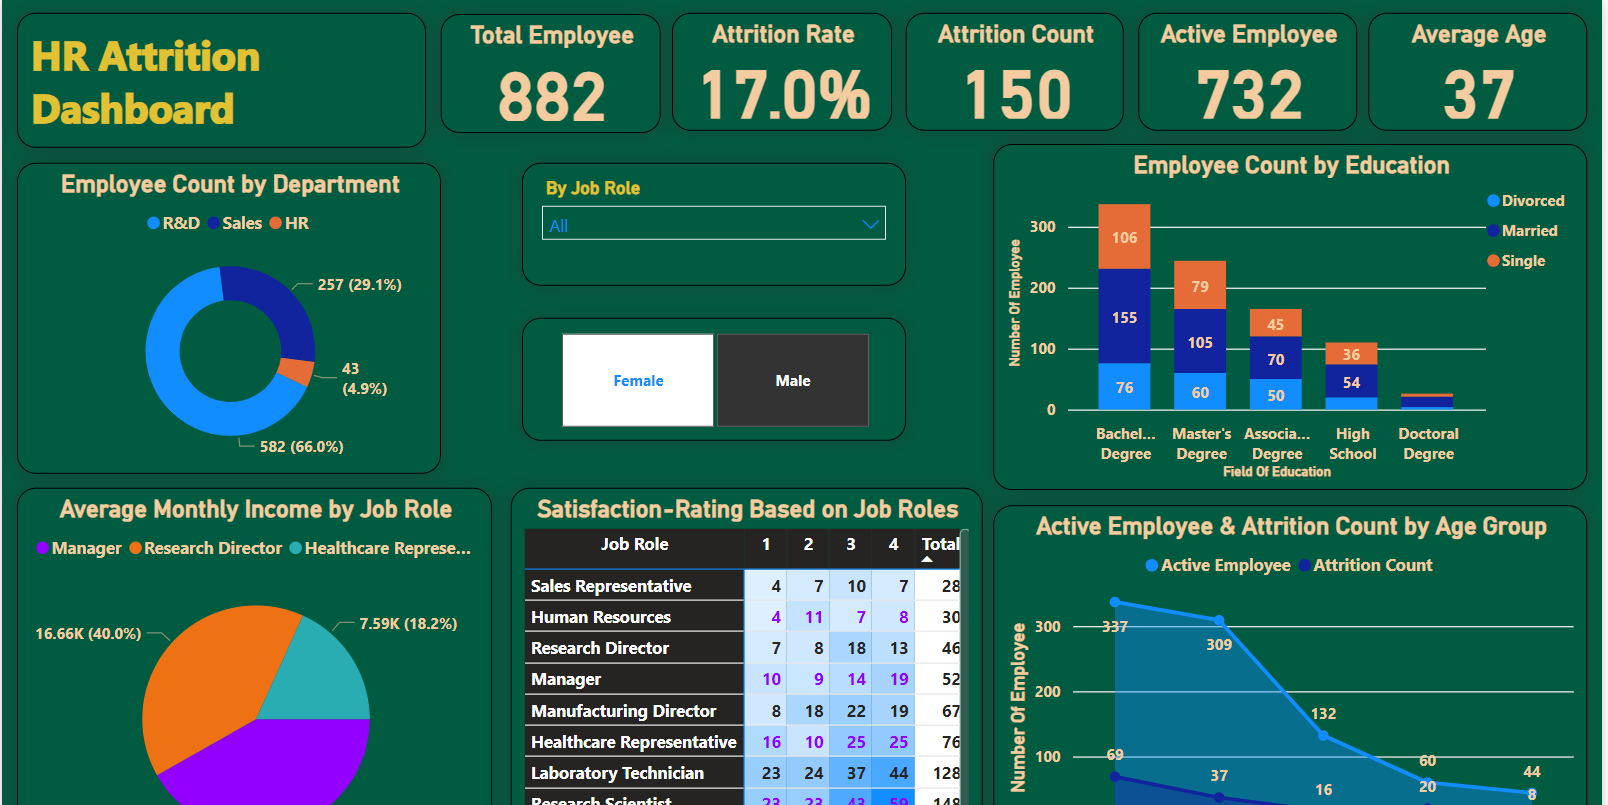

What the dashboard file says about the page in this screenshot:
{"tool":"powerbi","page":{"name":"Page 1","canvas":[1280,720],"ordinal":0},"visuals":[{"type":"card","title":"Total Employee","fields":{"Values":["CountNonNull(HR data.Employee Count)"]},"box":[350.7,12,176,94.7],"z":0},{"type":"card","title":"Attrition Count","fields":{"Values":["Sum(HR data.Attrition Count)"]},"box":[722.7,10.7,174.7,94.7],"z":1000},{"type":"card","title":"Attrition Rate","fields":{"Values":["HR data.Attrition Rate"]},"box":[536,10.7,176,94.7],"z":2000},{"type":"card","title":"Active Employee","fields":{"Values":["HR data.Active Employee"]},"box":[909.3,10.7,174.7,94.7],"z":3000},{"type":"donutChart","title":"Employee Count by Department","fields":{"Y":["Sum(HR data.Employee Count)"],"Category":["HR data.Department"]},"box":[12,130.7,338.7,249.3],"z":4000},{"type":"columnChart","title":"Employee Count by Education","fields":{"Y":["Sum(HR data.Employee Count)"],"Category":["HR data.Education"],"Series":["HR data.Marital Status"]},"box":[793.3,116,474.7,277.3],"z":5000},{"type":"card","title":"Average Age","fields":{"Values":["Avg(HR data.Age)"]},"box":[1093.3,10.7,174.7,94.7],"z":6000},{"type":"areaChart","title":"Active Employee & Attrition Count by Age Group","fields":{"Category":["HR data.CF_age band"],"Y":["CountNonNull(HR data.CF_current Employee)","Sum(HR data.Attrition Count)"]},"box":[793.3,405.3,474.7,304],"z":7000},{"type":"pieChart","title":"Average Monthly Income by Job Role","fields":{"Category":["HR data.Job Role"],"Y":["Avg(HR data.Monthly Income)"]},"box":[12,390.7,380,318.7],"z":8000},{"type":"pivotTable","title":"Satisfaction-Rating Based on Job Roles","fields":{"Rows":["HR data.Job Role"],"Columns":["HR data.Job Satisfaction"],"Values":["HR data.Active Employee"]},"box":[406.7,390.7,377.3,318.7],"z":9000},{"type":"textbox","box":[12,10.7,326.7,108],"z":10000},{"type":"slicer","fields":{"Values":["HR data.Job Role"]},"box":[416,130.7,306.7,98.7],"z":11000},{"type":"slicer","fields":{"Values":["HR data.Gender"]},"box":[416,254.7,306.7,98.7],"z":12000}]}

Visuals, with their boxes on the page's 1280x720 design canvas (x1, y1, x2, y2). These are canvas units, not pixel positions in the 1608x805 screenshot, which may show the page scaled, cropped or inside an application window:
"Total Employee" card: x1=351, y1=12, x2=527, y2=107
"Attrition Count" card: x1=723, y1=11, x2=897, y2=105
"Attrition Rate" card: x1=536, y1=11, x2=712, y2=105
"Active Employee" card: x1=909, y1=11, x2=1084, y2=105
"Employee Count by Department" donutChart: x1=12, y1=131, x2=351, y2=380
"Employee Count by Education" columnChart: x1=793, y1=116, x2=1268, y2=393
"Average Age" card: x1=1093, y1=11, x2=1268, y2=105
"Active Employee & Attrition Count by Age Group" areaChart: x1=793, y1=405, x2=1268, y2=709
"Average Monthly Income by Job Role" pieChart: x1=12, y1=391, x2=392, y2=709
"Satisfaction-Rating Based on Job Roles" pivotTable: x1=407, y1=391, x2=784, y2=709
textbox: x1=12, y1=11, x2=339, y2=119
slicer - HR data.Job Role: x1=416, y1=131, x2=723, y2=229
slicer - HR data.Gender: x1=416, y1=255, x2=723, y2=353
